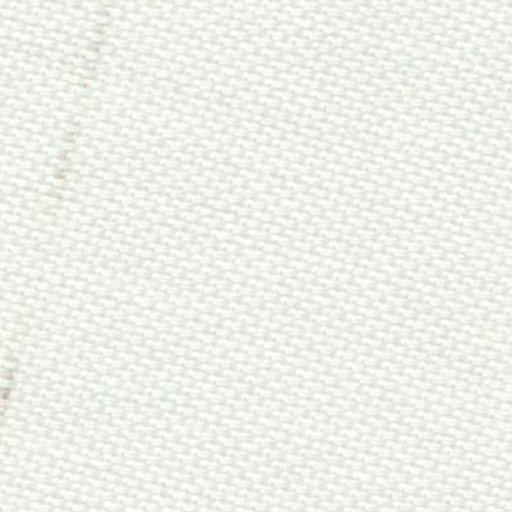WuZi: (4, 12, 112, 415)
